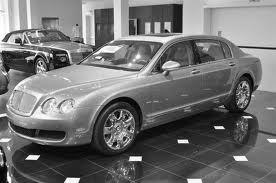car: (3, 31, 268, 159)
